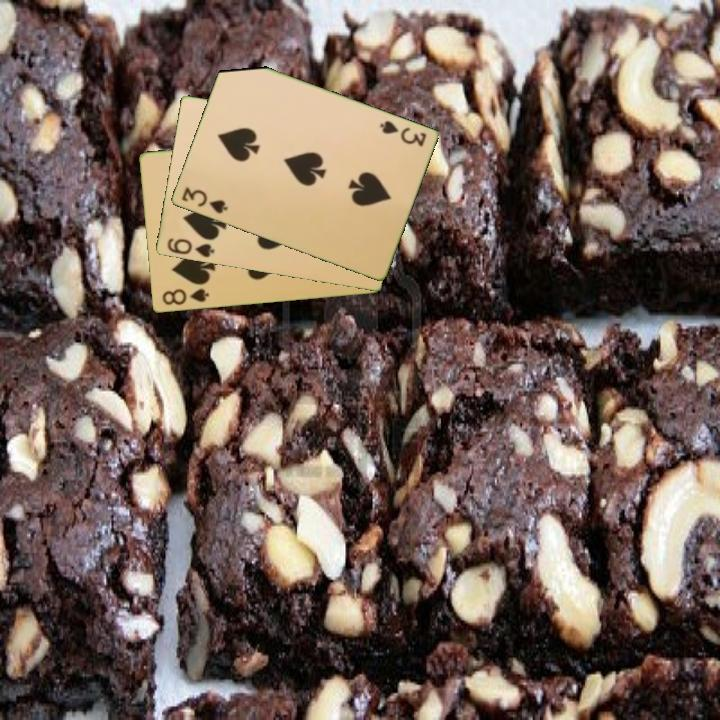3s: (178, 183, 230, 217), (376, 117, 429, 150)
6s: (163, 235, 217, 261)
8s: (158, 285, 211, 308)
